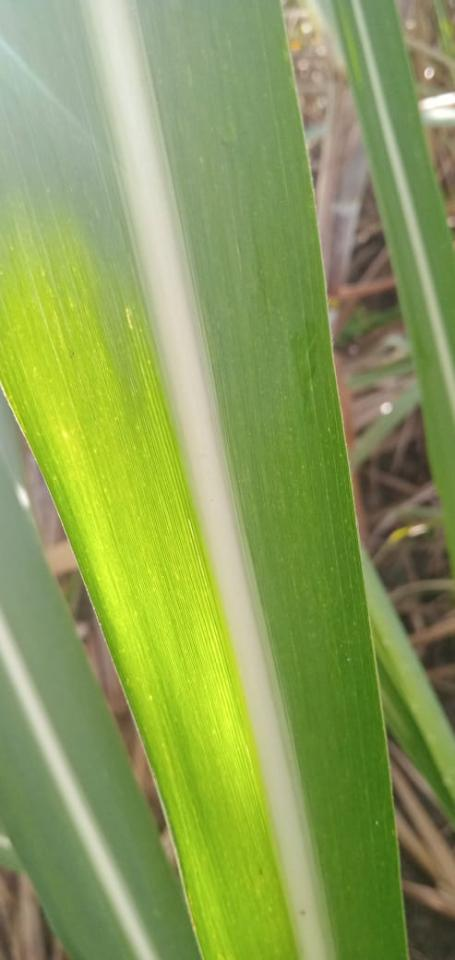Healthy: (0, 0, 409, 959), (0, 464, 204, 959), (320, 0, 454, 579)
